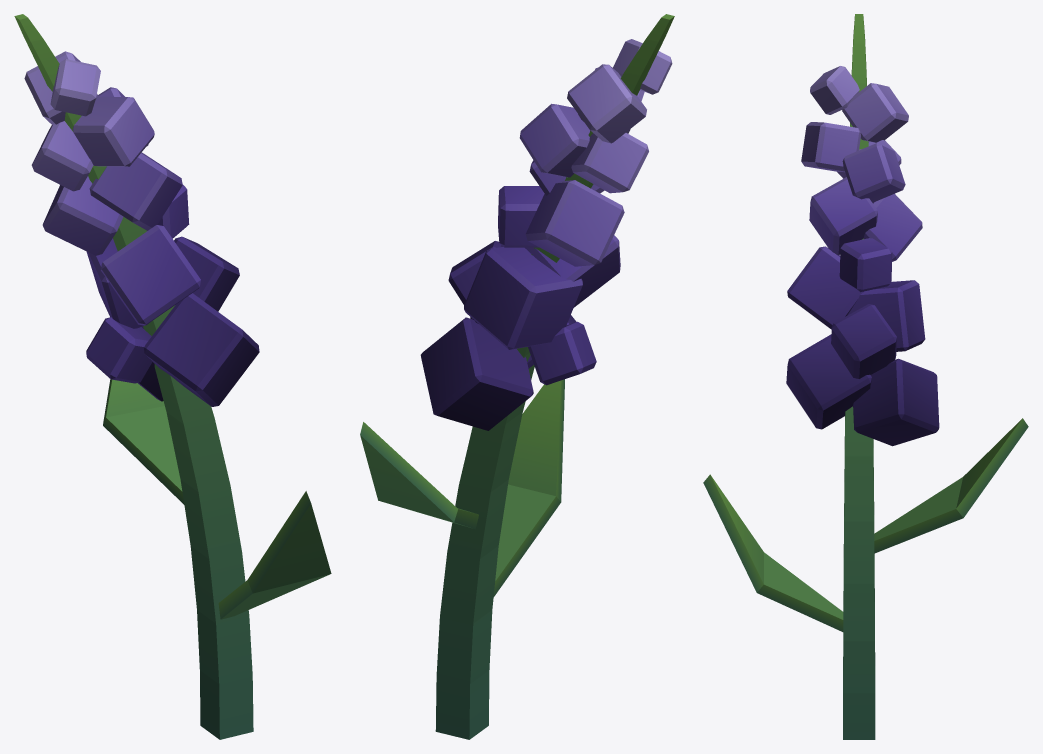
File: Flower-3-2.fbx
3 views of the same model, side by side, from view 1: azimuth 30°, elevation 25°; view 2: azimuth 150°, elevation 25°; view 3: azimuth 270°, elevation 25° (orthographic). The views are drawn at different scales.
Parts seen in each view (by area): view 1: Flower-3-2; view 2: Flower-3-2; view 3: Flower-3-2.
Part boxes in pixels (<box>): Flower-3-2: <box>14,14,331,739</box>; Flower-3-2: <box>360,14,674,739</box>; Flower-3-2: <box>703,14,1028,739</box>.
Size of the model in its own units: 45.06 by 130 by 60.34.
